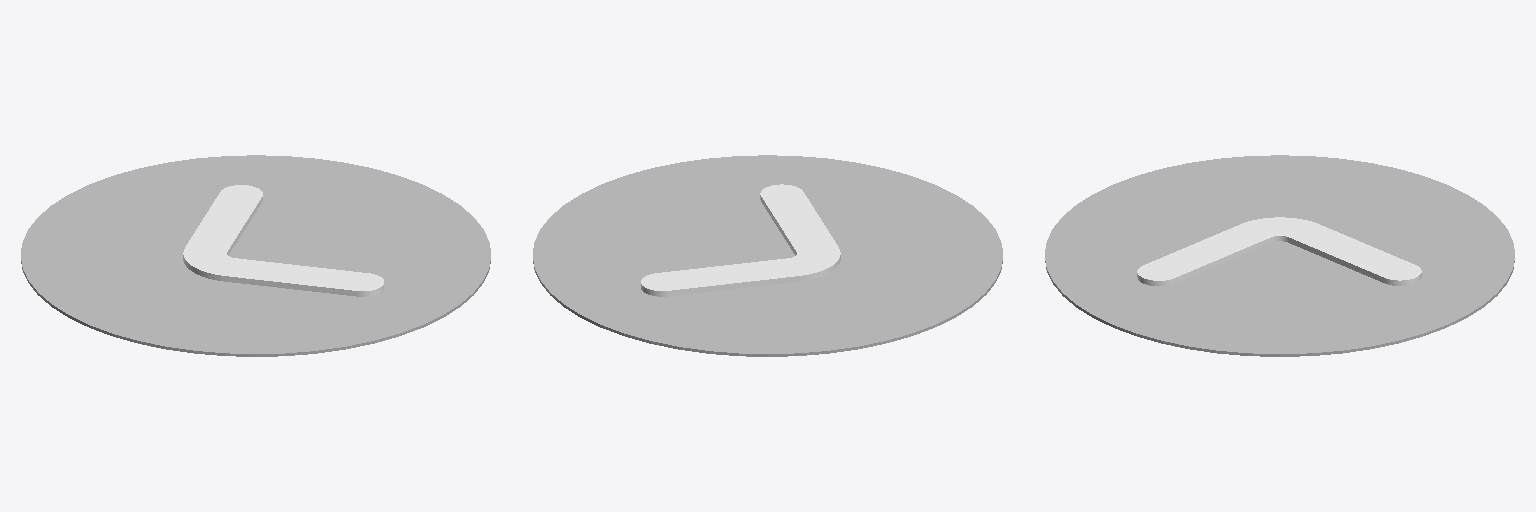
File: Arrow.obj
3 views of the same model, side by side, from view 1: azimuth 30°, elevation 25°; view 2: azimuth 150°, elevation 25°; view 3: azimuth 270°, elevation 25° (orthographic).
Visible parts, largest first — view 1: Curve_CUCurve, Curve.001_CUCurve.001; view 2: Curve_CUCurve, Curve.001_CUCurve.001; view 3: Curve_CUCurve, Curve.001_CUCurve.001.
Part boxes in pixels (left/top/right/bottom): Curve_CUCurve: left=21, top=155, right=490, bottom=356; Curve.001_CUCurve.001: left=183, top=185, right=383, bottom=296; Curve_CUCurve: left=533, top=155, right=1002, bottom=356; Curve.001_CUCurve.001: left=641, top=184, right=840, bottom=296; Curve_CUCurve: left=1045, top=155, right=1514, bottom=356; Curve.001_CUCurve.001: left=1137, top=217, right=1421, bottom=286.
Size of the model in its own units: 0.0862 by 0.0028 by 0.0862.